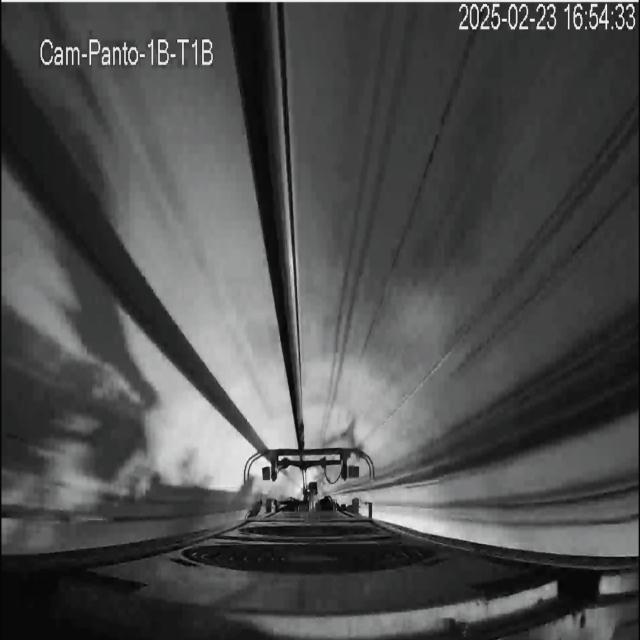Camera Stamp: (40, 34, 218, 68)
Date Stamp: (460, 3, 637, 33)
No - Spark: (245, 447, 374, 517)
